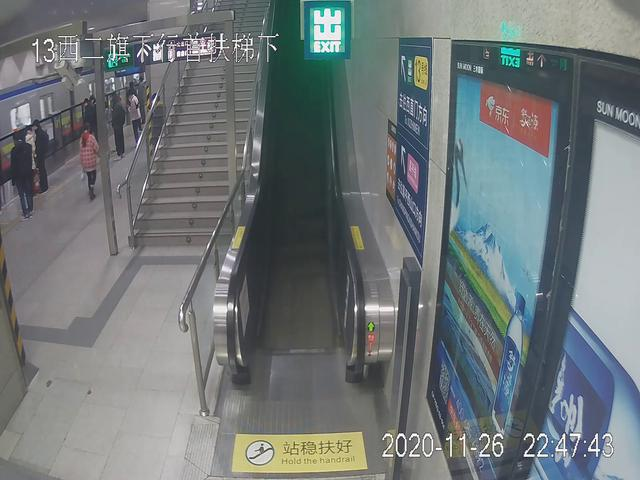person: (8, 133, 37, 218), (28, 119, 53, 196), (75, 124, 98, 199), (111, 92, 128, 163), (124, 91, 140, 156)
